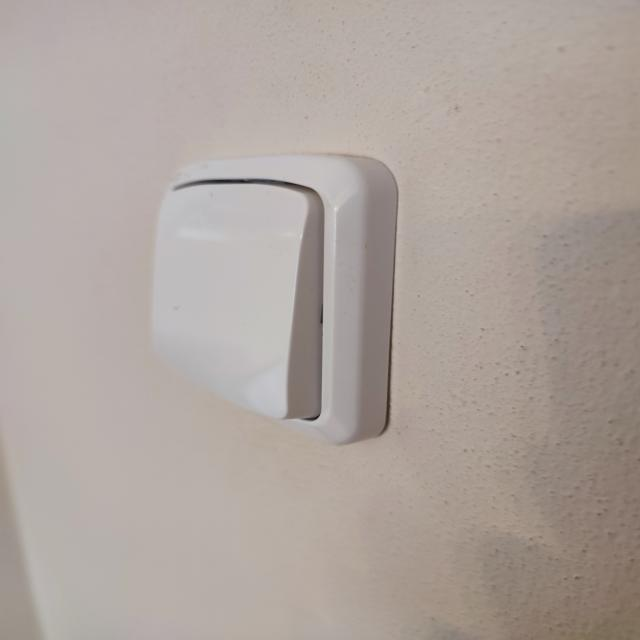house switch: (150, 155, 398, 445)
